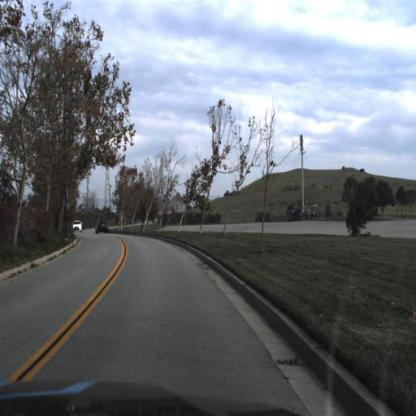car: (94, 216, 113, 237)
